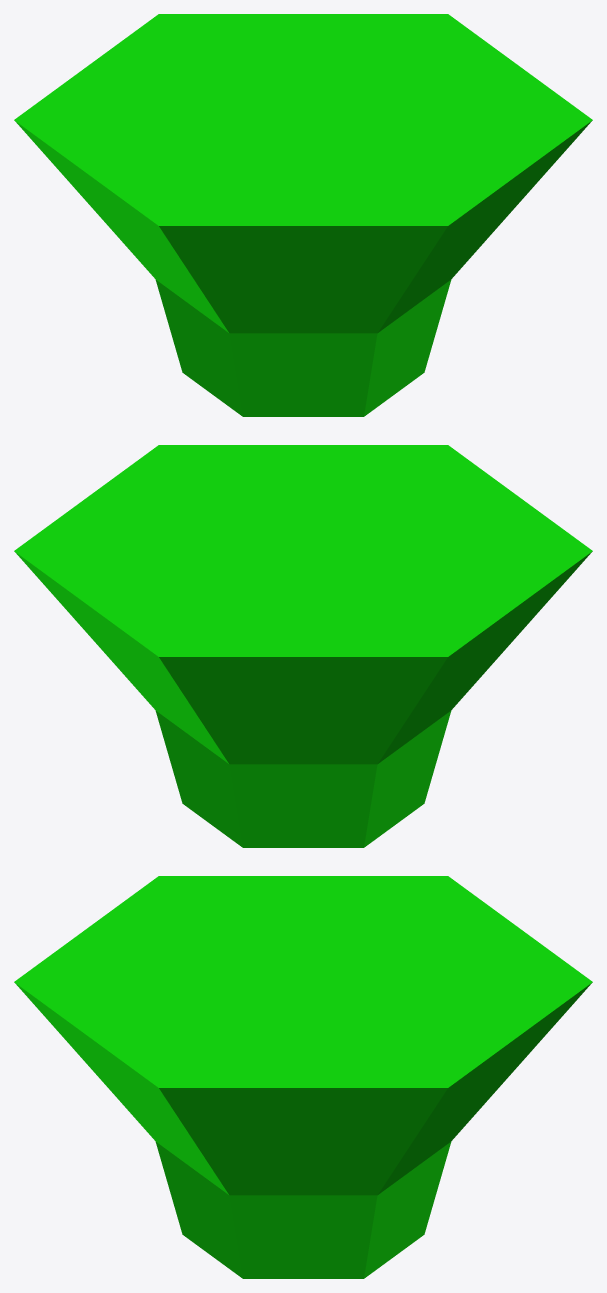
File: 4Ratchet.fbx
3 views of the same model, one above another, from view 1: azimuth 30°, elevation 25°; view 2: azimuth 150°, elevation 25°; view 3: azimuth 270°, elevation 25° (orthographic).
Parts seen in each view (by area): view 1: 4Ratchet; view 2: 4Ratchet; view 3: 4Ratchet.
Boxes of the visible parts, box(x1,y1,x2,y2) form: 4Ratchet: box(14, 14, 592, 416); 4Ratchet: box(14, 445, 592, 847); 4Ratchet: box(14, 876, 592, 1278).
Bounding box in the file's own units: 249 × 138 × 287.
